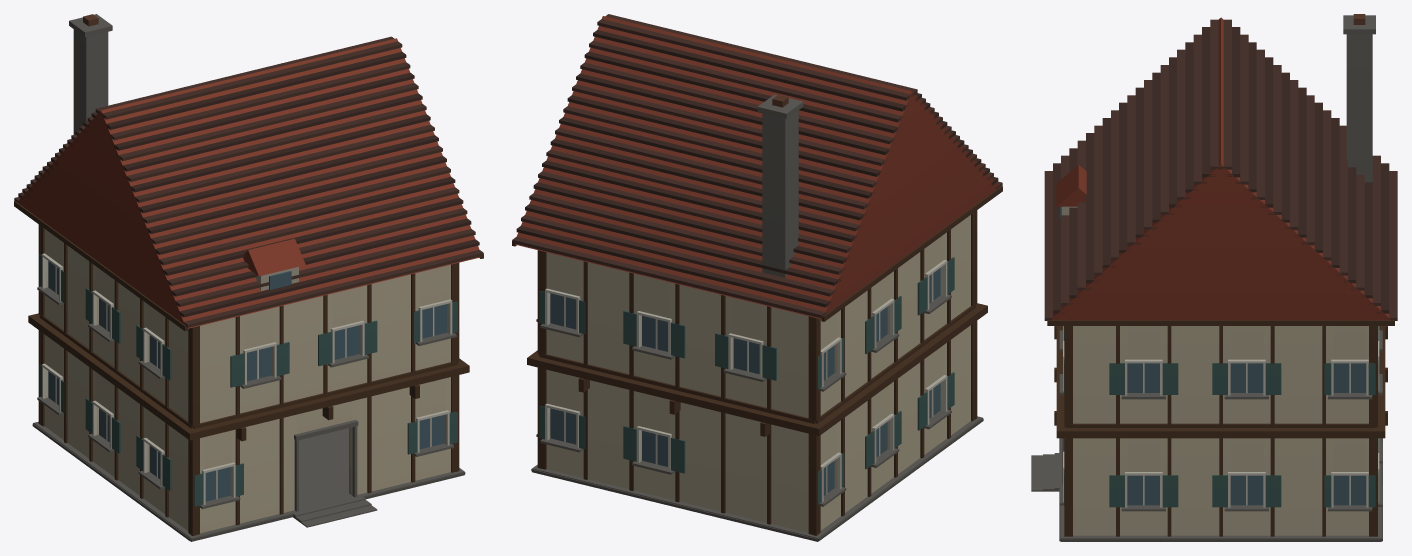
The model's file is town_townhouse.glb.
The picture shows the model from 3 angles, left to right: view 1: azimuth 30°, elevation 25°; view 2: azimuth 150°, elevation 25°; view 3: azimuth 270°, elevation 25°; orthographic projection. The views are drawn at different scales.
Visible parts, largest first — view 1: prop; view 2: prop; view 3: prop.
Boxes of the visible parts, box(x1,y1,x2,y2) form: prop: box(14, 14, 483, 541); prop: box(512, 14, 1002, 541); prop: box(1031, 14, 1397, 541).
Size of the model in its own units: 10.22 by 13.3 by 10.66.
